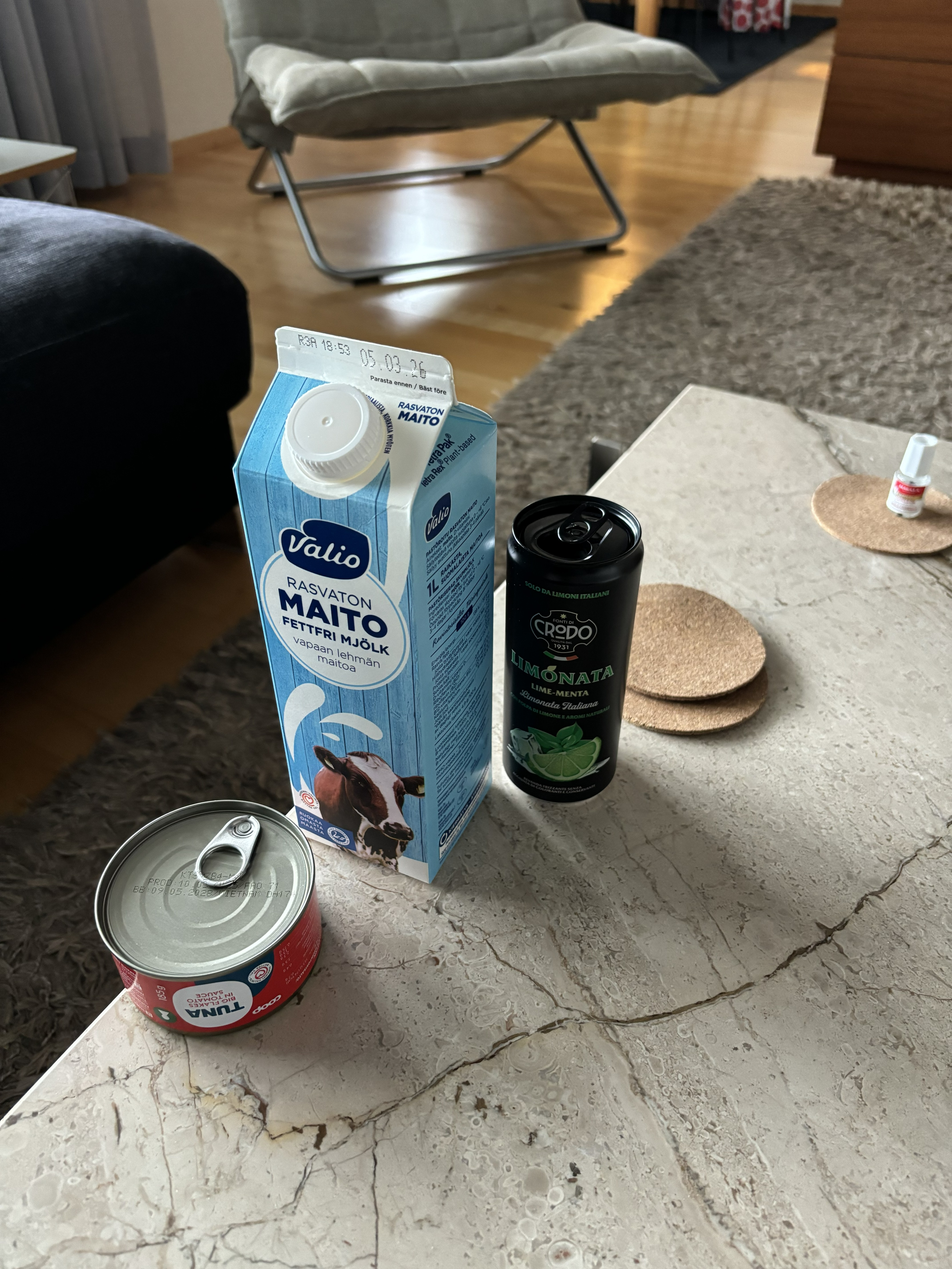Dryckeskartong: (235, 321, 501, 887)
Konservburk: (88, 795, 327, 1032)
Pantburk: (514, 483, 650, 808)
